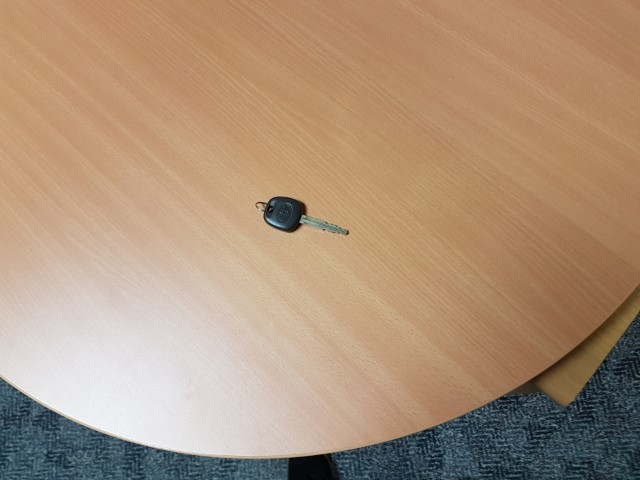key: (263, 196, 350, 236)
